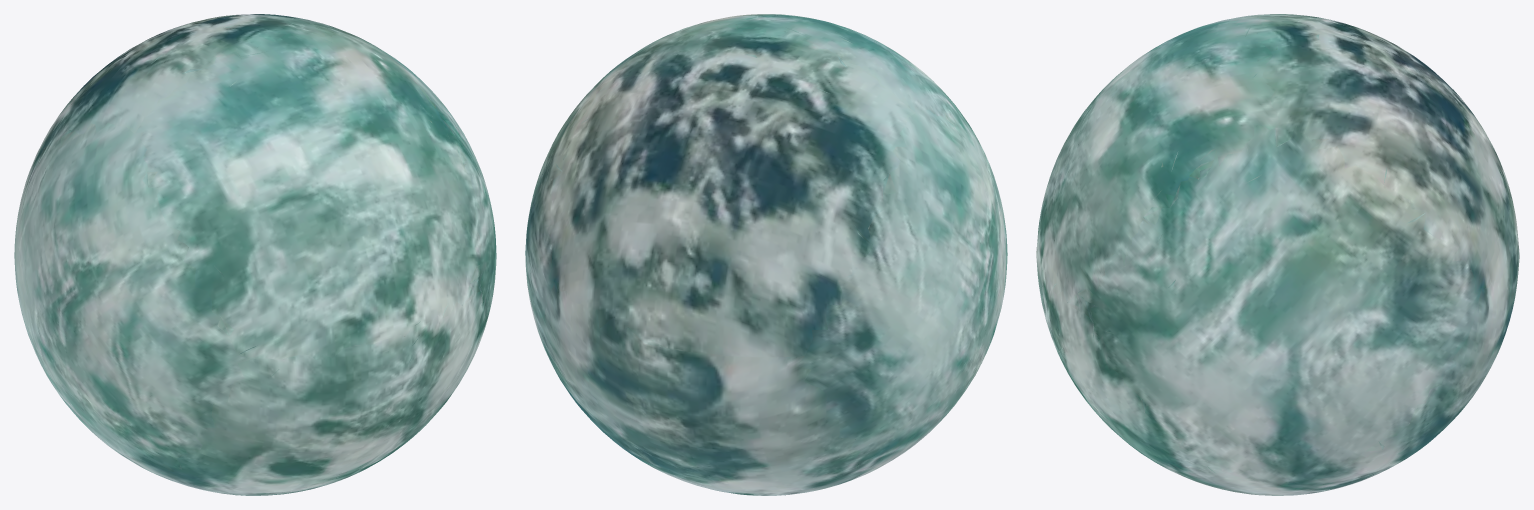
Rendered from horizonplanet.glb.
The picture shows the model from 3 angles, left to right: view 1: azimuth 30°, elevation 25°; view 2: azimuth 150°, elevation 25°; view 3: azimuth 270°, elevation 25°; orthographic projection.
Visible parts, largest first — view 1: Mesh10; view 2: Mesh10; view 3: Mesh10.
Part boxes in pixels (x1,y1,x2,y2): Mesh10: (14,14,496,495); Mesh10: (525,14,1007,495); Mesh10: (1036,14,1519,495).
Bounding box in the file's own units: 1.91 × 1.91 × 1.91.
1 material, 1 textured.
